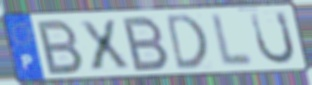B: (121, 14, 172, 74), (36, 17, 86, 77)
D: (164, 12, 211, 73)
L: (210, 12, 256, 69)
U: (248, 10, 298, 67)
X: (76, 18, 133, 73)
